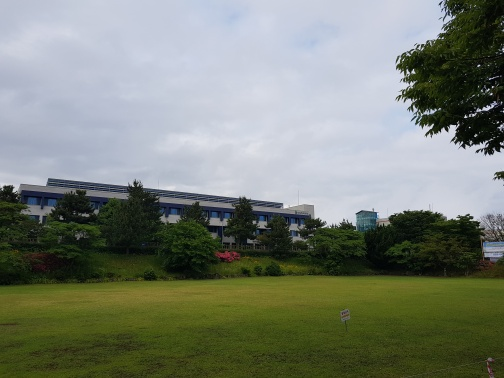College of Social Sciences: (18, 173, 321, 257), (42, 175, 315, 230)
